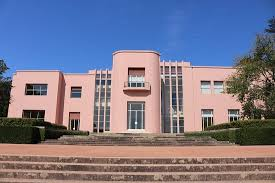serralves: (7, 49, 274, 133)
